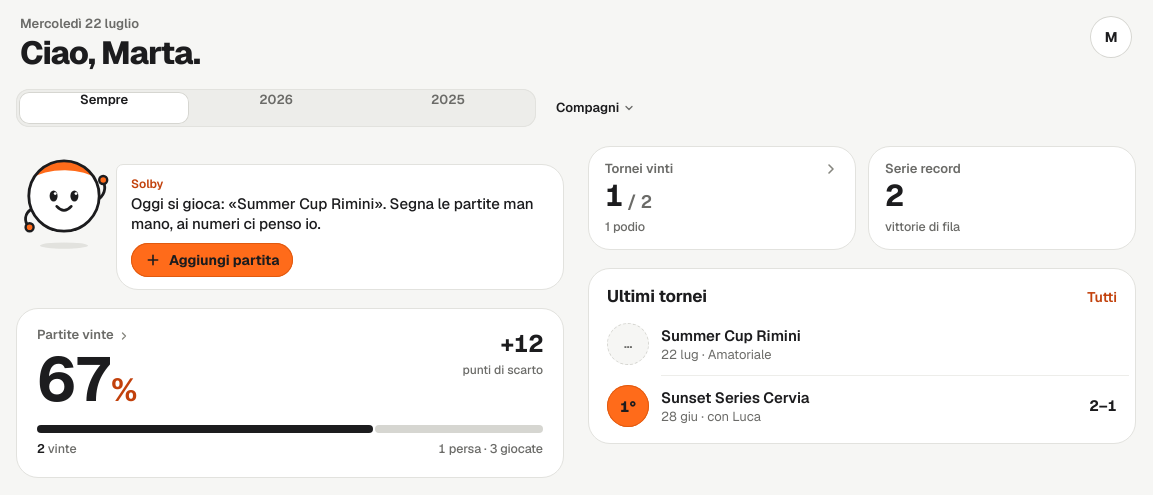
it: Home — filtri › il periodo: «Sempre» e le ultime due stagioni
Click the button "2025": (448, 108) [363,92,533,124]
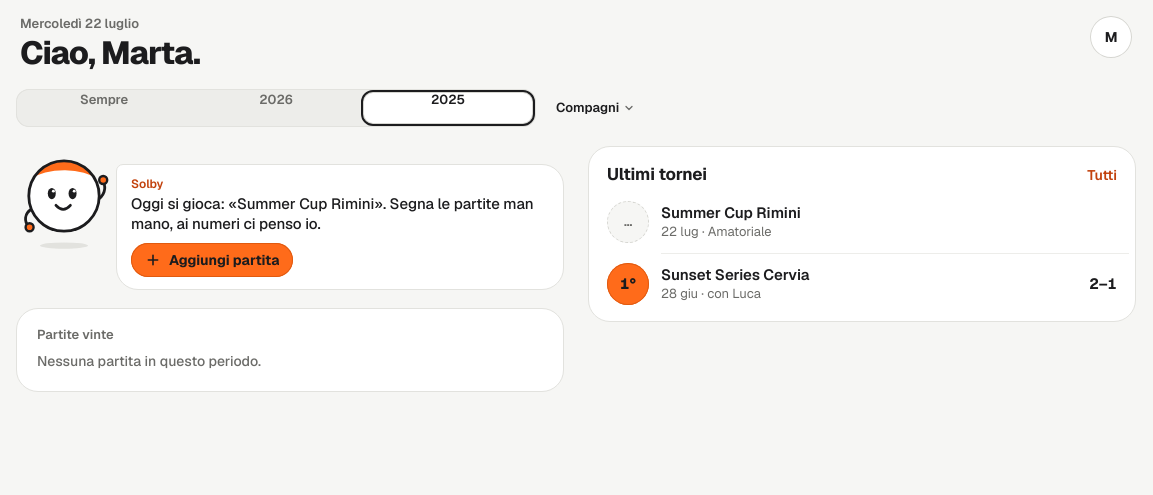
Now the element "Partite vinte" shows "Nessuna partita in questo periodo.", box [37,352,261,370]
